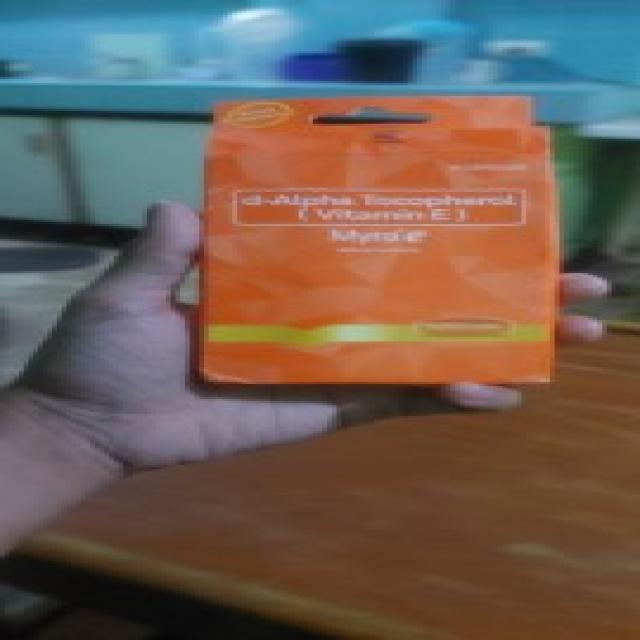Cacat: (198, 96, 548, 386)
